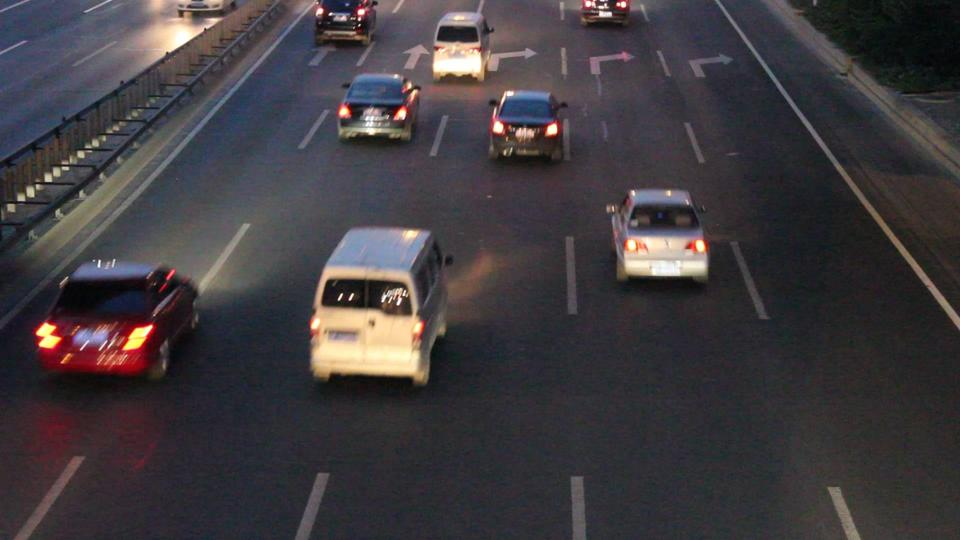car: (307, 225, 453, 387), (33, 258, 201, 383), (607, 186, 711, 286), (487, 89, 568, 163), (337, 73, 421, 144), (430, 10, 495, 82), (315, 0, 380, 47), (579, 0, 633, 27), (175, 0, 239, 17)
